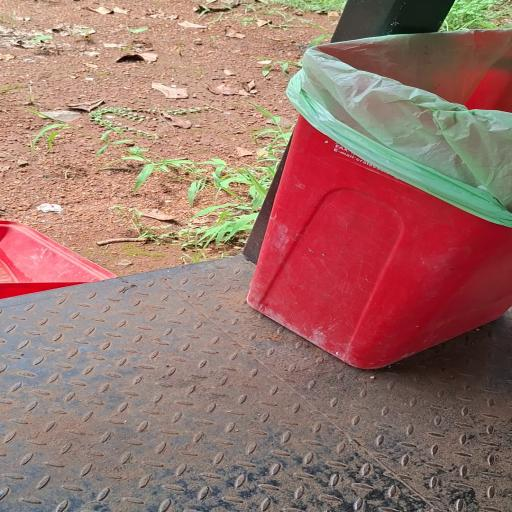Nilkamal-dustbin-detection: (248, 31, 512, 368)
